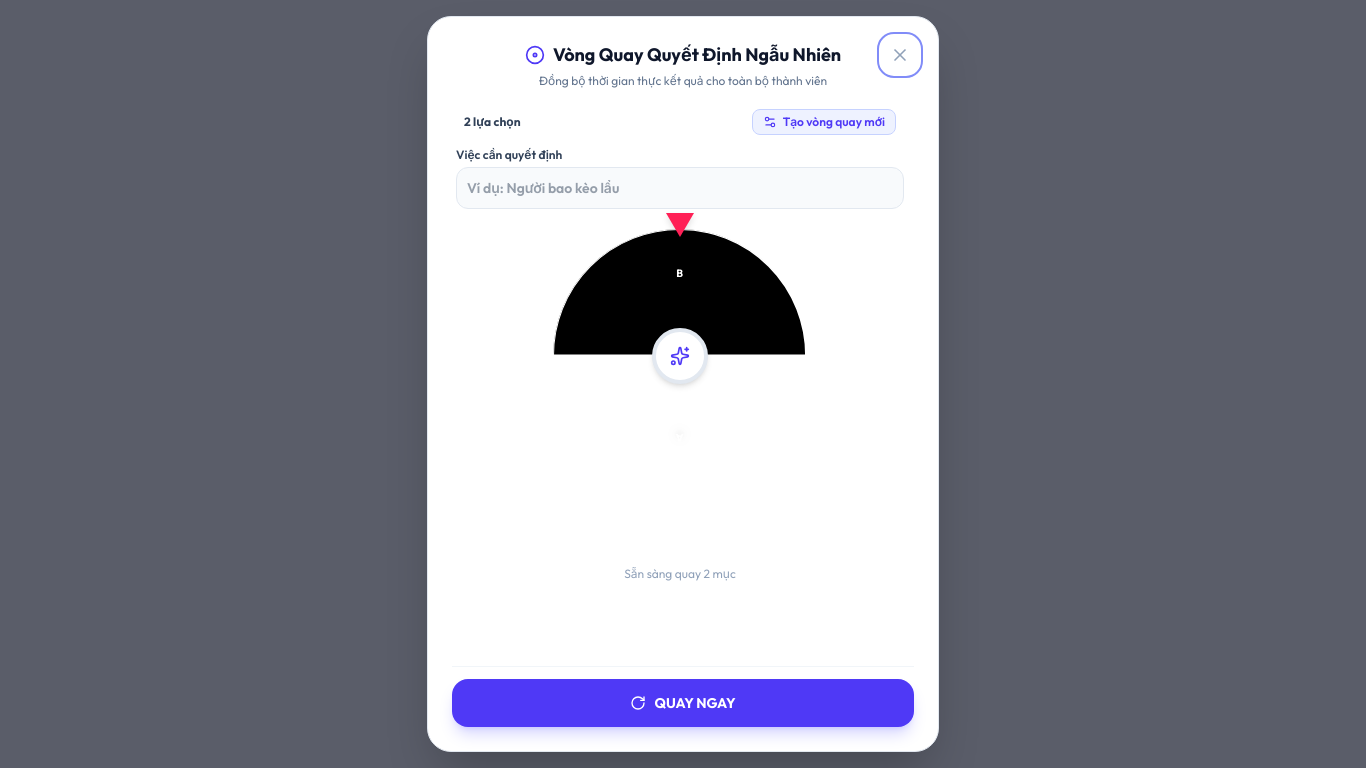
Test: keeps the original slices while the server removes a winner during a spin
Click the button "QUAY NGAY".
click(683, 703)  # box 452,679 -> 914,727
Wait 4200 ms
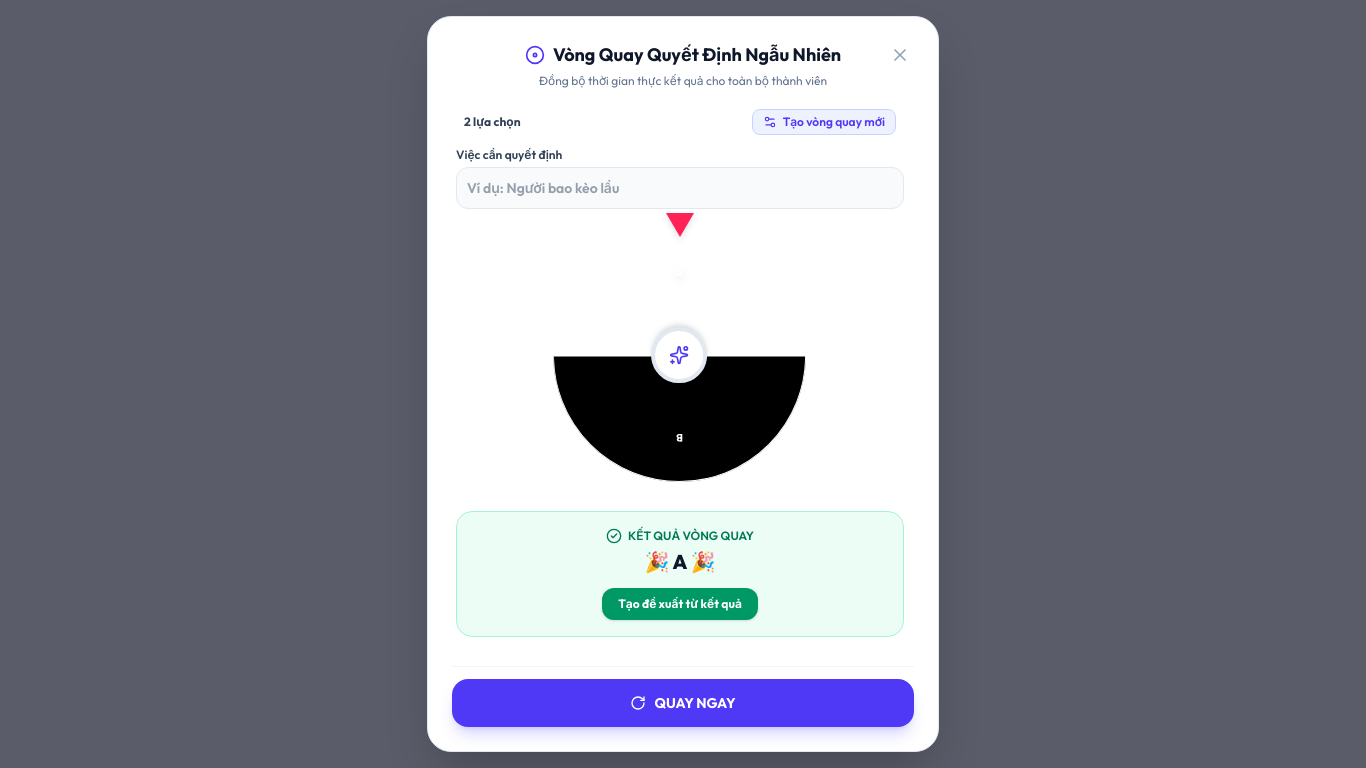
Now the text "KẾT QUẢ VÒNG QUAY" is shown, box 628,528 -> 754,544
